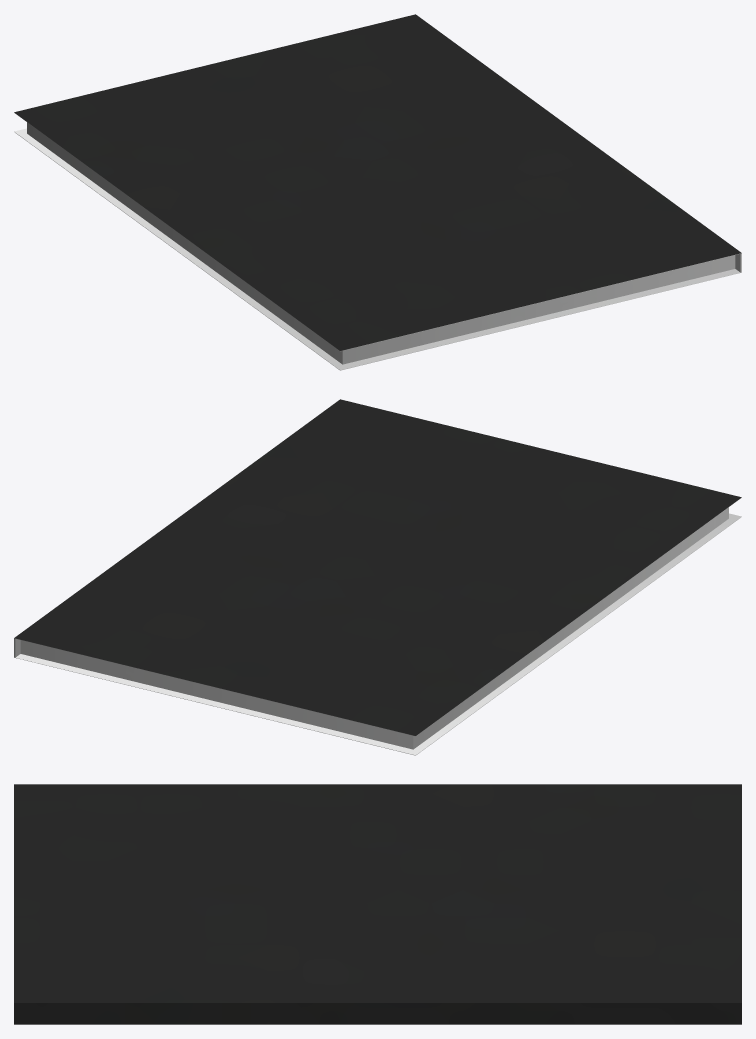
The model's file is Book_8.fbx.
The picture shows the model from 3 angles, top to bottom: view 1: azimuth 30°, elevation 25°; view 2: azimuth 150°, elevation 25°; view 3: azimuth 270°, elevation 25°; orthographic projection. The views are drawn at different scales.
Visible parts, largest first — view 1: Book 8; view 2: Book 8; view 3: Book 8.
Part boxes in pixels (x1=…): Book 8: x1=14, y1=14, x2=741, y2=370; Book 8: x1=14, y1=399, x2=741, y2=755; Book 8: x1=14, y1=784, x2=741, y2=1024.
Bounding box in the file's own units: 21.61 × 1 × 30.4.
